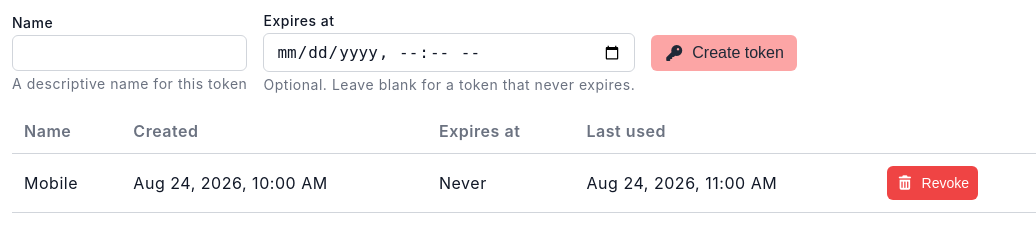
Scenario: ApiTokensTab › rejects an expiry date in the past
Type "CI/CD" into the field labelled "Name". click: (130,52)
box: [12,34,247,70]
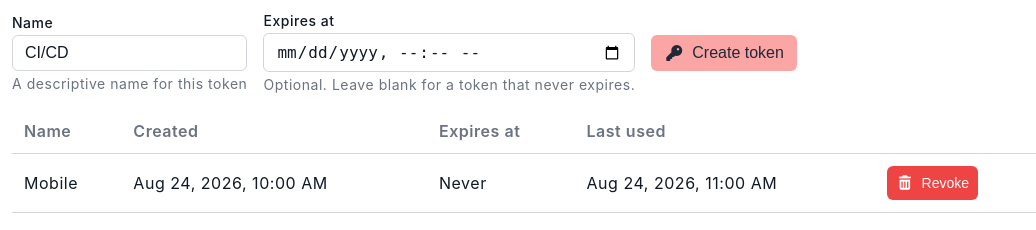
Type "2020-01-01T00:00" into the field labelled "Expires at". click: (449,52)
box: [263,33,635,72]
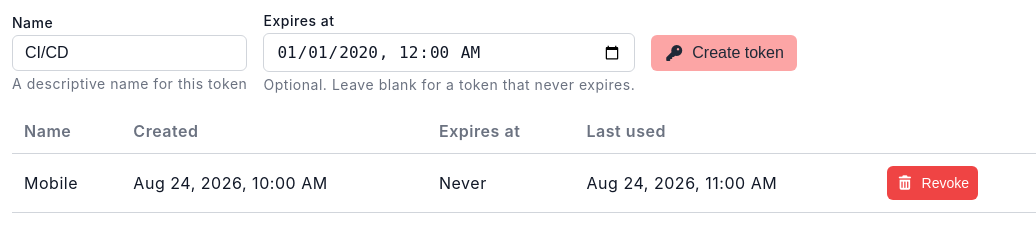
Submit the form, box [12,12,797,93]
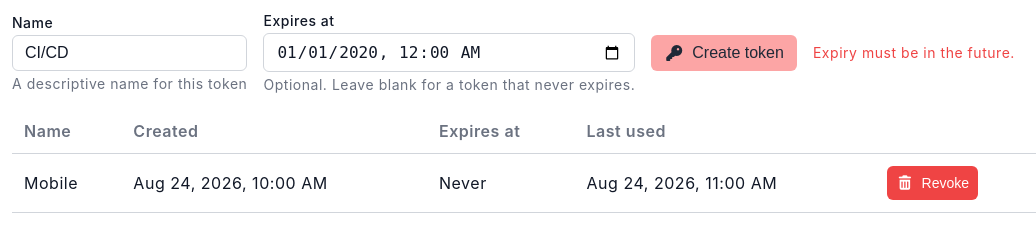
Now the text "Expiry must be in the future." is shown, box [813,44,1015,61]
